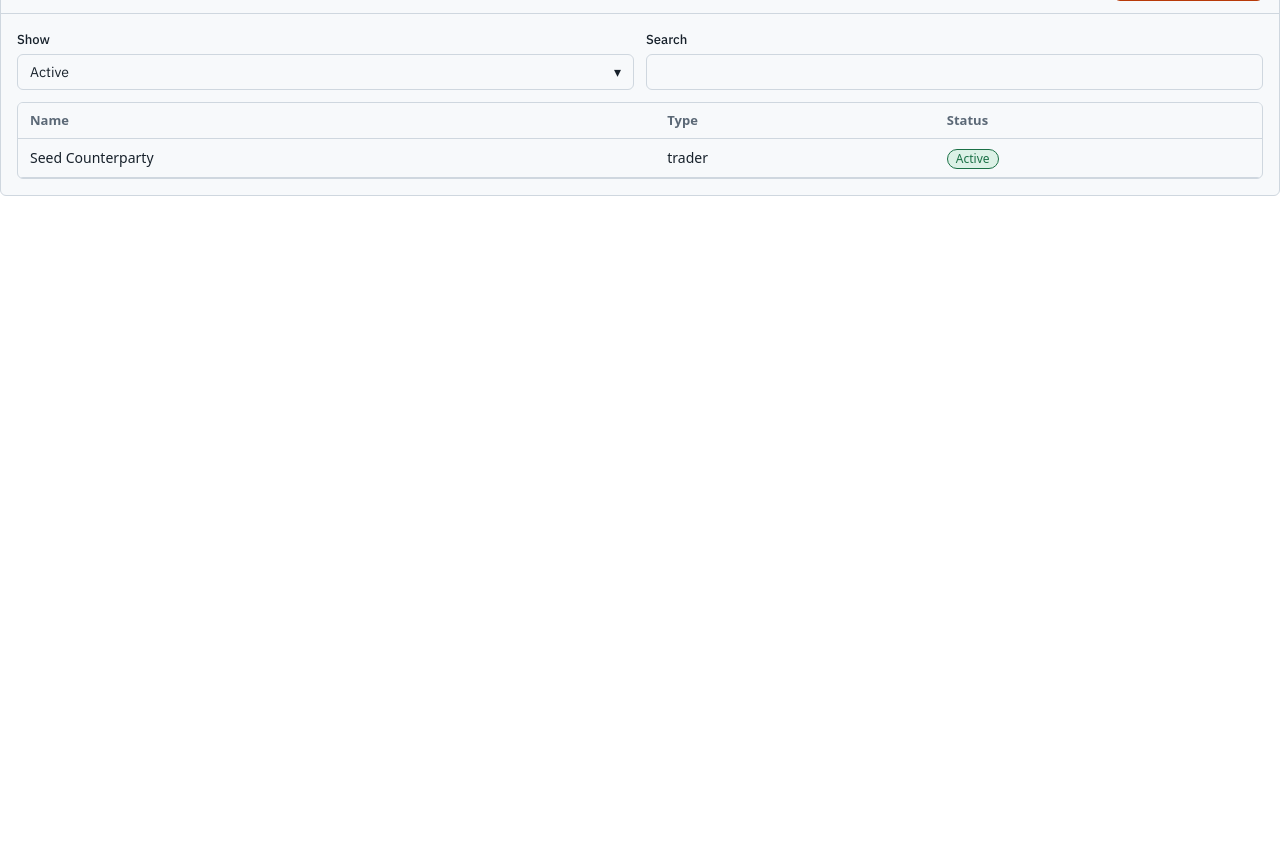
it: drafts, sets and focus › [B1-R11] saving Details keeps unsaved coverage ticks
Step 1. Click the cell "Seed Counterparty" → coordinates (337, 158), box [18,139,655,178]
(page scrolled)
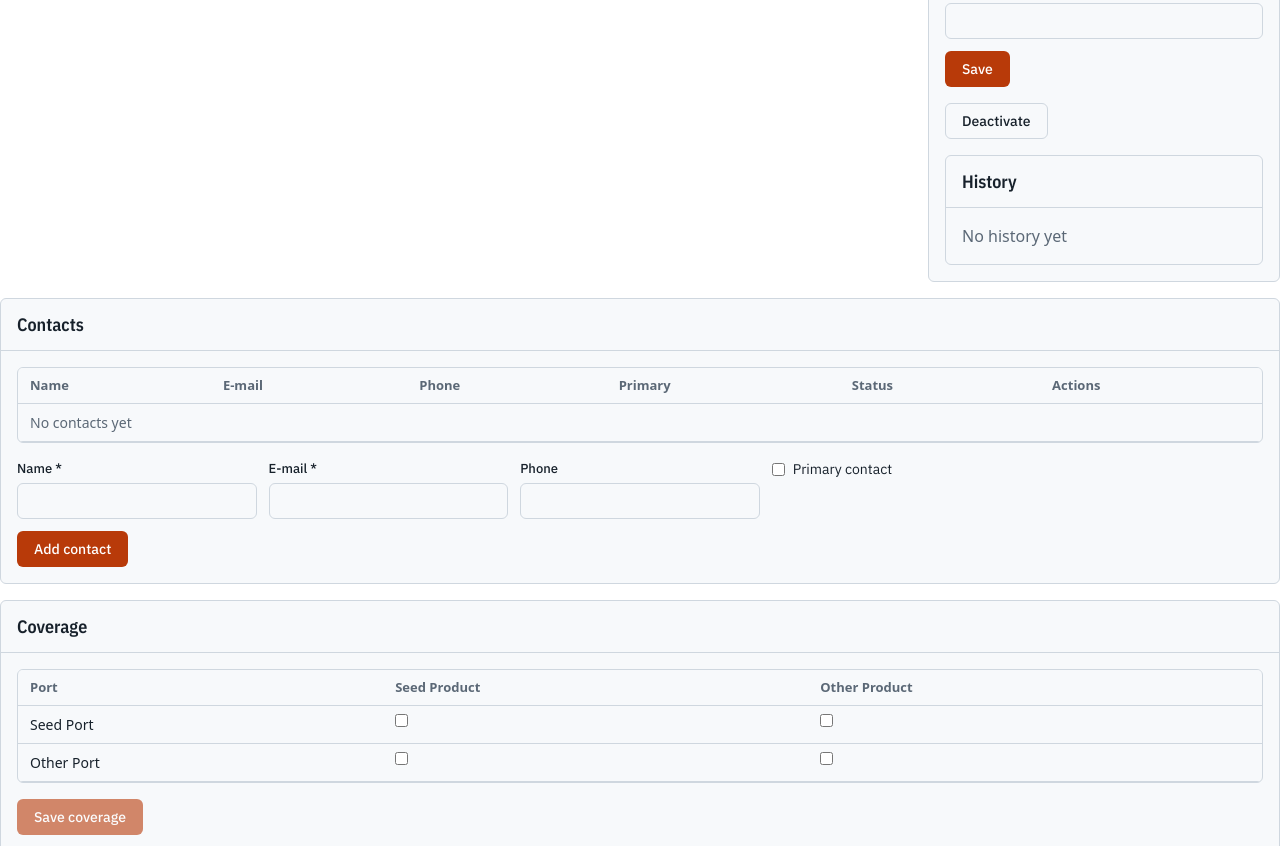
Result: the 1st checkbox named "Seed Port – Seed Product" is shown
Step 2. Click the 1st checkbox named "Seed Port – Seed Product" → coordinates (402, 720), box [395,714,408,727]
(page scrolled)
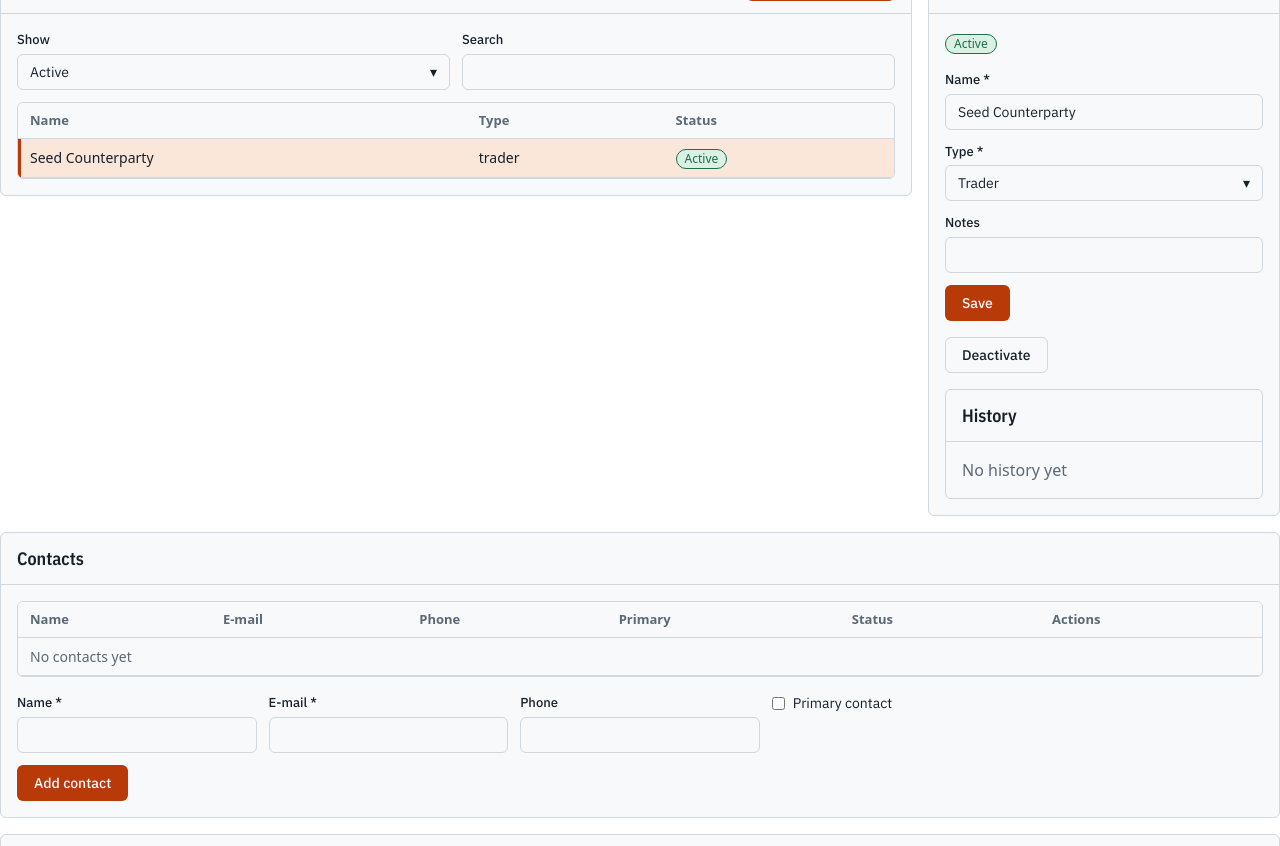
Step 3. Type "!" into the 1st field labelled "Name *" → coordinates (1104, 112), box [945,94,1263,130]
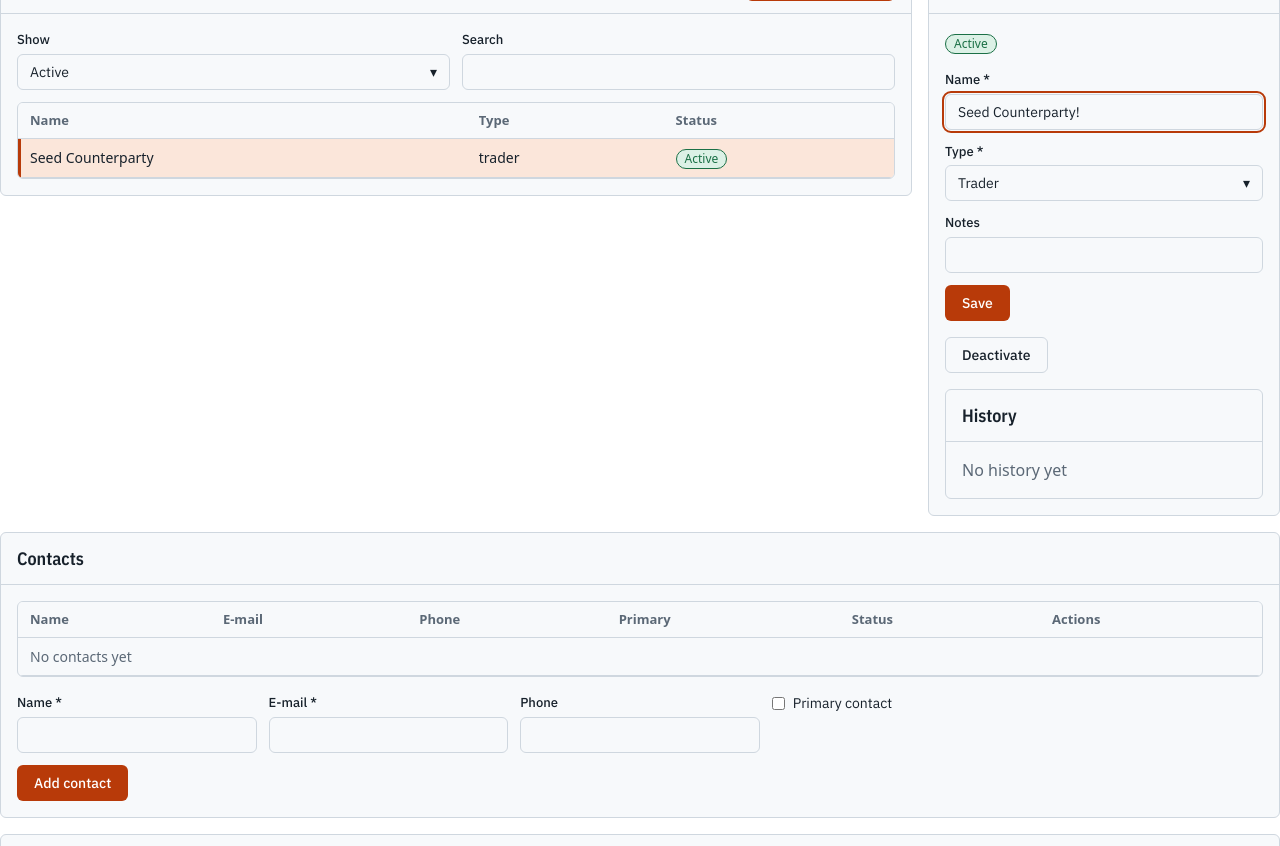
Step 4. Click the button "Save" → coordinates (977, 302), box [945,284,1010,320]
(page scrolled)
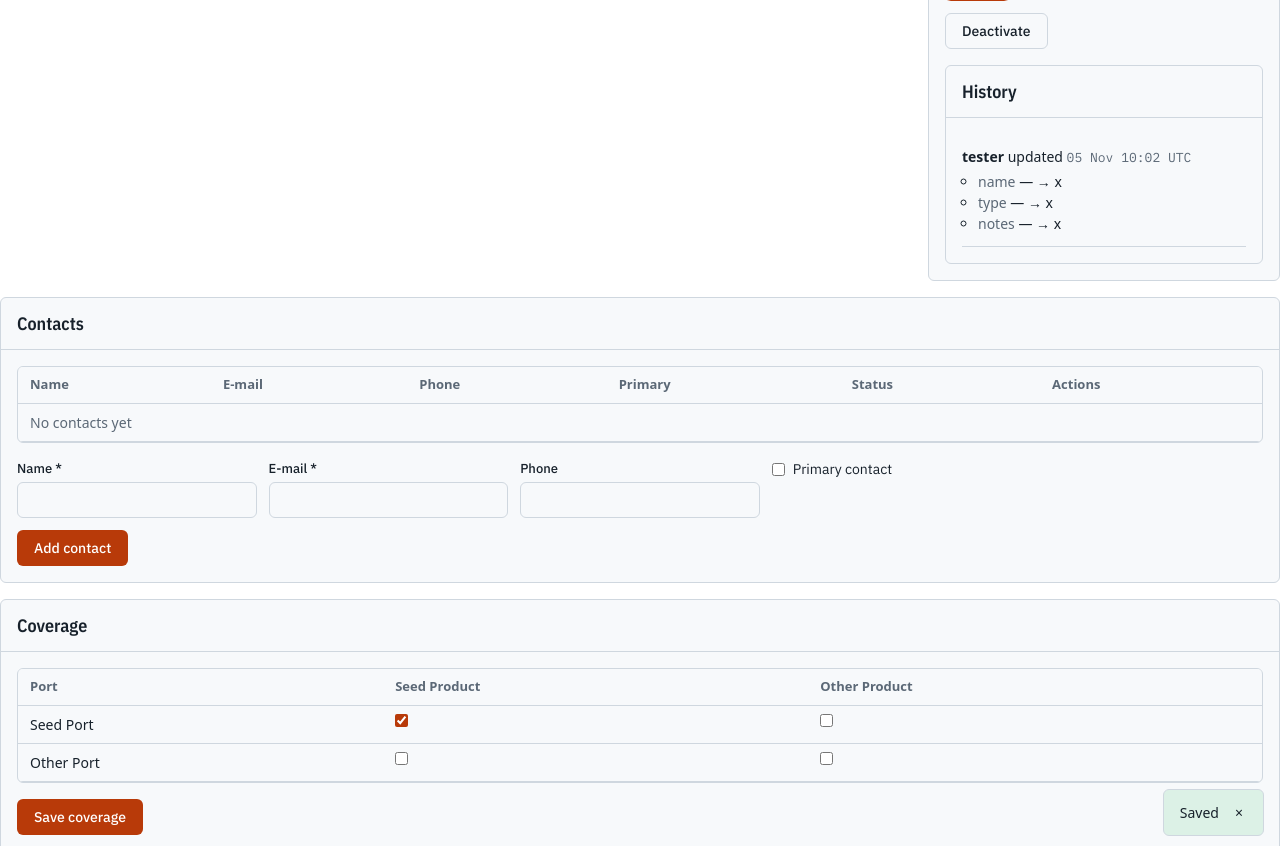
Result: the 1st checkbox named "Seed Port – Seed Product" is checked at [395,714,408,726]
Result: the text "Saved" is shown at [1180,802,1219,823]
Result: the text "tester updated 05 Nov 10:02 UTC" is shown at [962,146,1191,166]
Step 5. Click the button "Save coverage" → coordinates (80, 816), box [17,798,143,834]
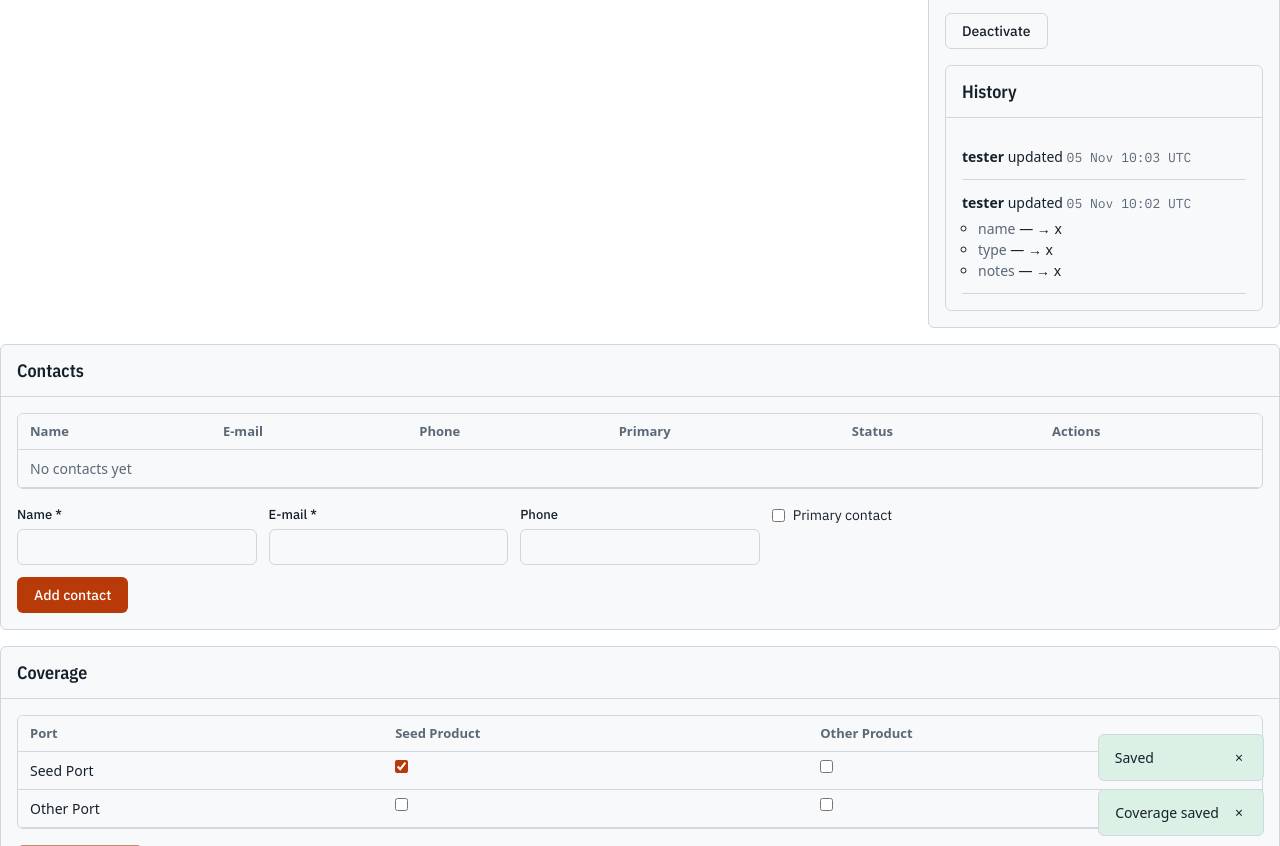
Result: the text "Coverage saved" is shown at [1115,802,1219,823]
